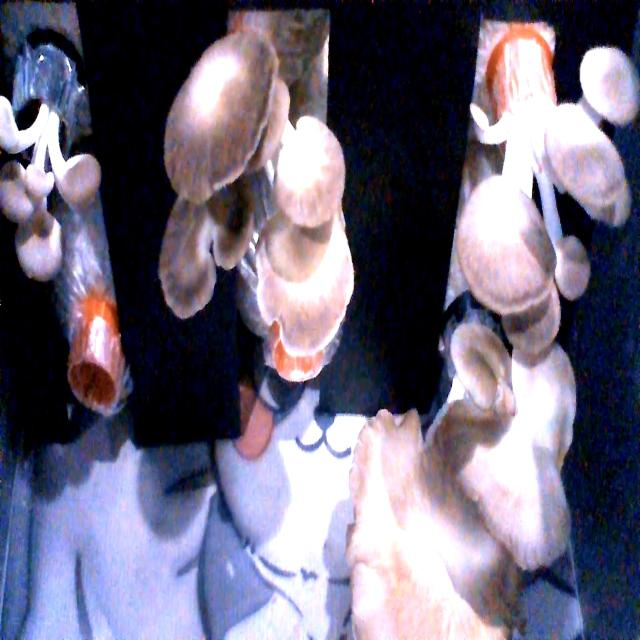big: (334, 341, 587, 640), (149, 27, 357, 382), (458, 33, 640, 340)
nfound: (68, 339, 118, 440)
small: (0, 90, 88, 295)
